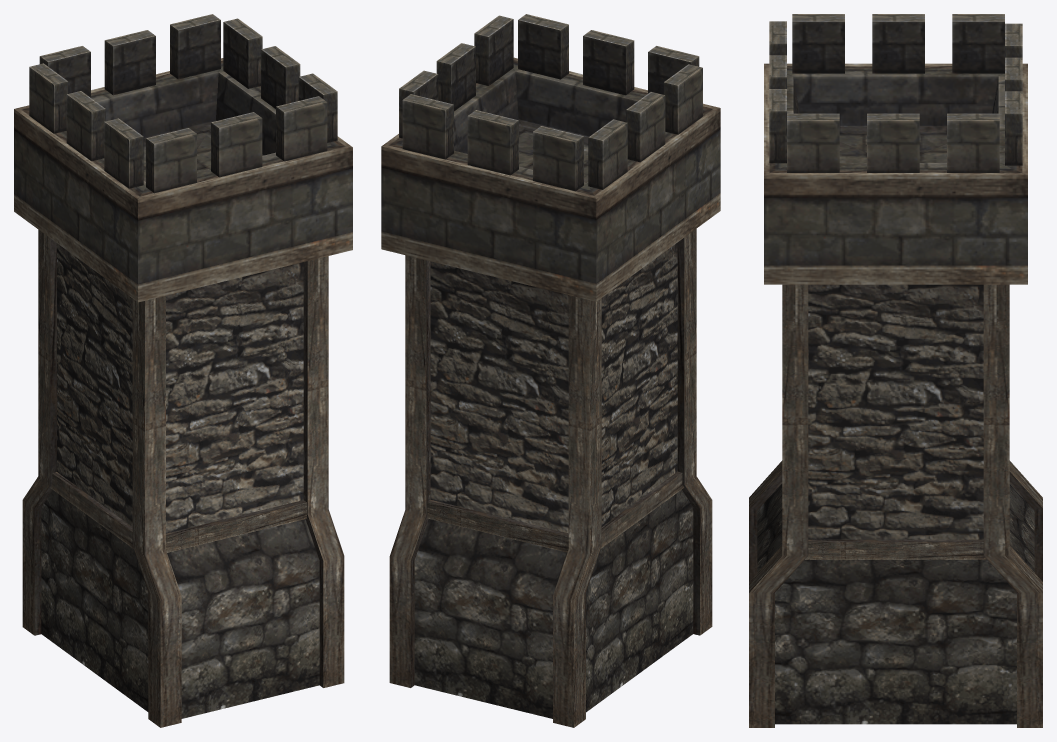
The model's file is SC_yonghengsenlin_03.FBX.
3 views of the same model, side by side, from view 1: azimuth 30°, elevation 25°; view 2: azimuth 150°, elevation 25°; view 3: azimuth 270°, elevation 25° (orthographic). The views are drawn at different scales.
Visible parts, largest first — view 1: SC_yonghengsenlin_03; view 2: SC_yonghengsenlin_03; view 3: SC_yonghengsenlin_03.
Boxes of the visible parts, x1=… form: SC_yonghengsenlin_03: x1=14, y1=14, x2=352, y2=727; SC_yonghengsenlin_03: x1=381, y1=14, x2=720, y2=727; SC_yonghengsenlin_03: x1=749, y1=14, x2=1042, y2=727.
Size of the model in its own units: 266 by 681 by 296.
